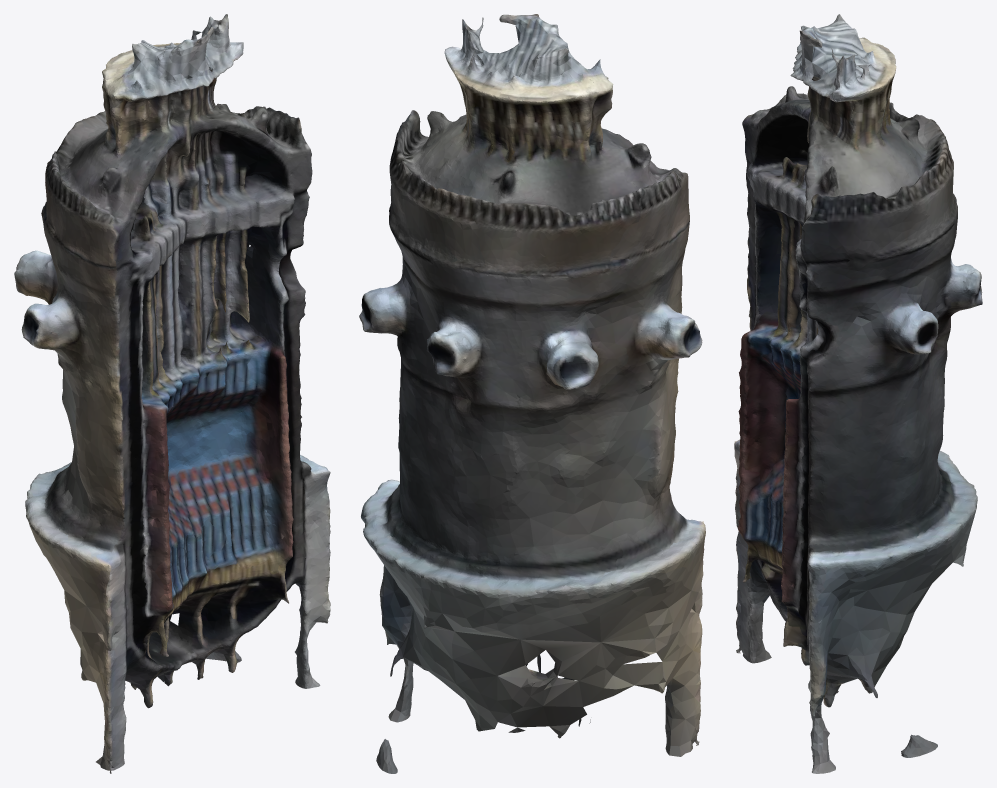
File: class-ines-sample-scan.glb
3 renders of one model, left to right at view 1: azimuth 30°, elevation 25°; view 2: azimuth 150°, elevation 25°; view 3: azimuth 270°, elevation 25°, orthographic. The views are drawn at different scales.
Parts seen in each view (by area): view 1: mesh; view 2: mesh; view 3: mesh.
Boxes of the visible parts, x1=… form: mesh: x1=14, y1=14, x2=330, y2=773; mesh: x1=359, y1=14, x2=705, y2=773; mesh: x1=734, y1=14, x2=982, y2=773.
Bounding box in the file's own units: 0.1711 × 0.3741 × 0.1236.
Materials: 1 (1 with a texture image).
